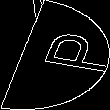P_W: (9, 31, 101, 79)
